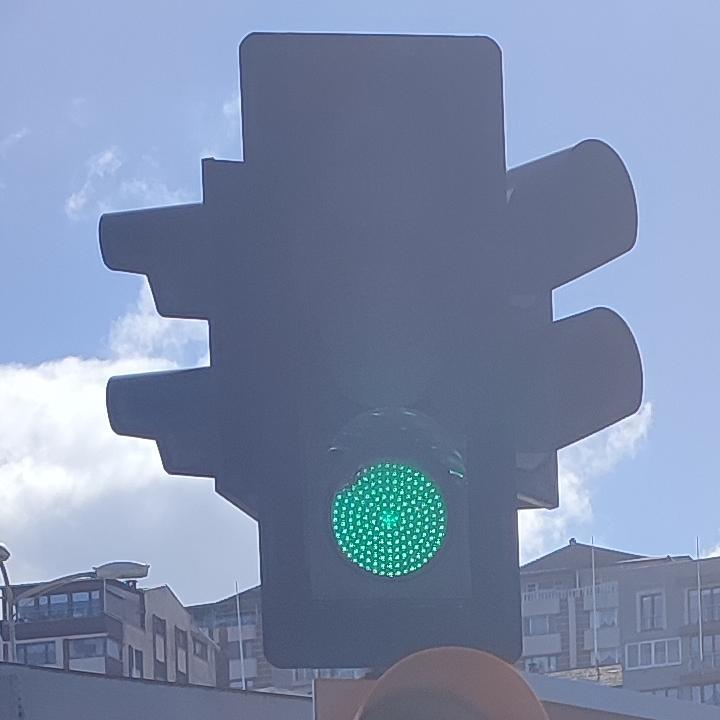green: (91, 11, 651, 674)
